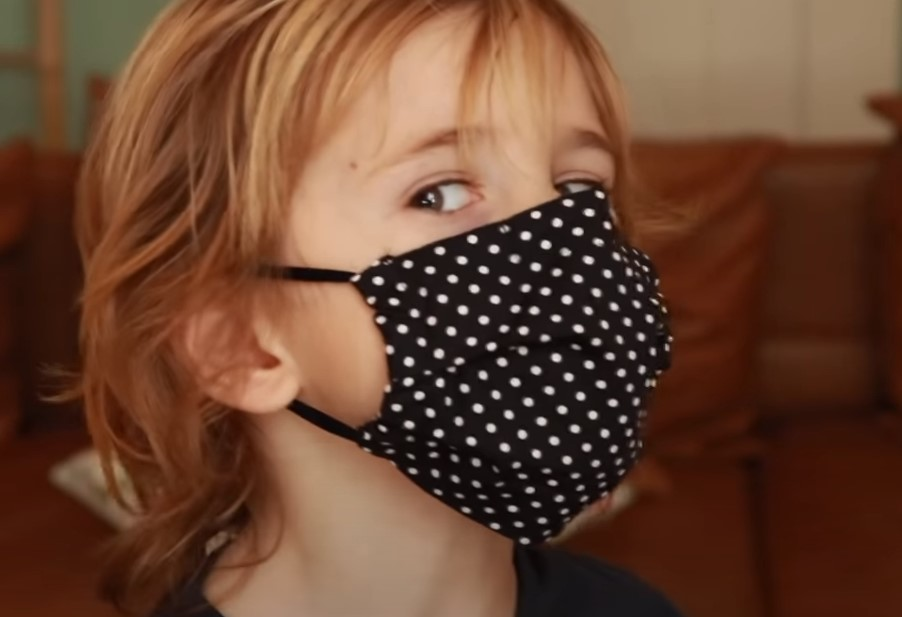face_with_mask: (109, 8, 675, 538)
